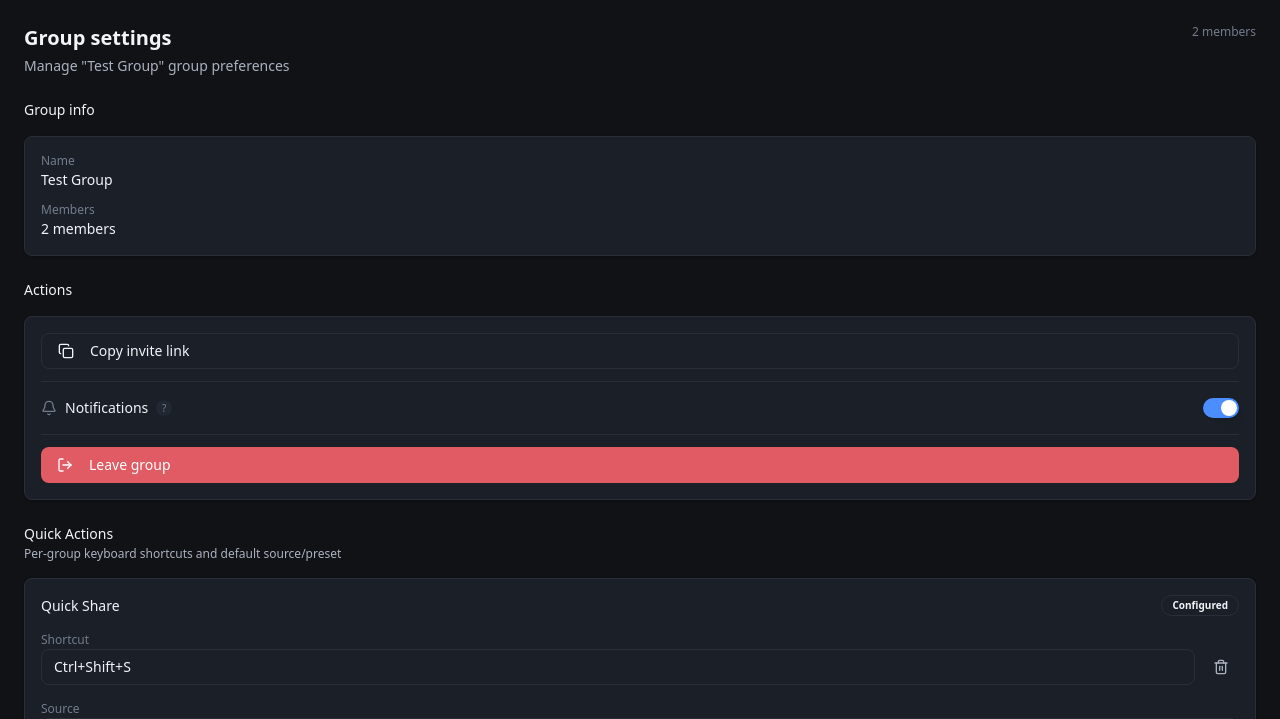
Test: GroupSettingsPage interactions › clear shortcut button is guarded while request pending
The image size is (1280, 719).
Expected: the heading "Group info" is shown, [24,100,95,120]
Expected: the text "Configured" is shown, [1162,595,1239,616]
Click the button titled "Clear shortcut" at (1221, 667), box [1203,649,1239,685]
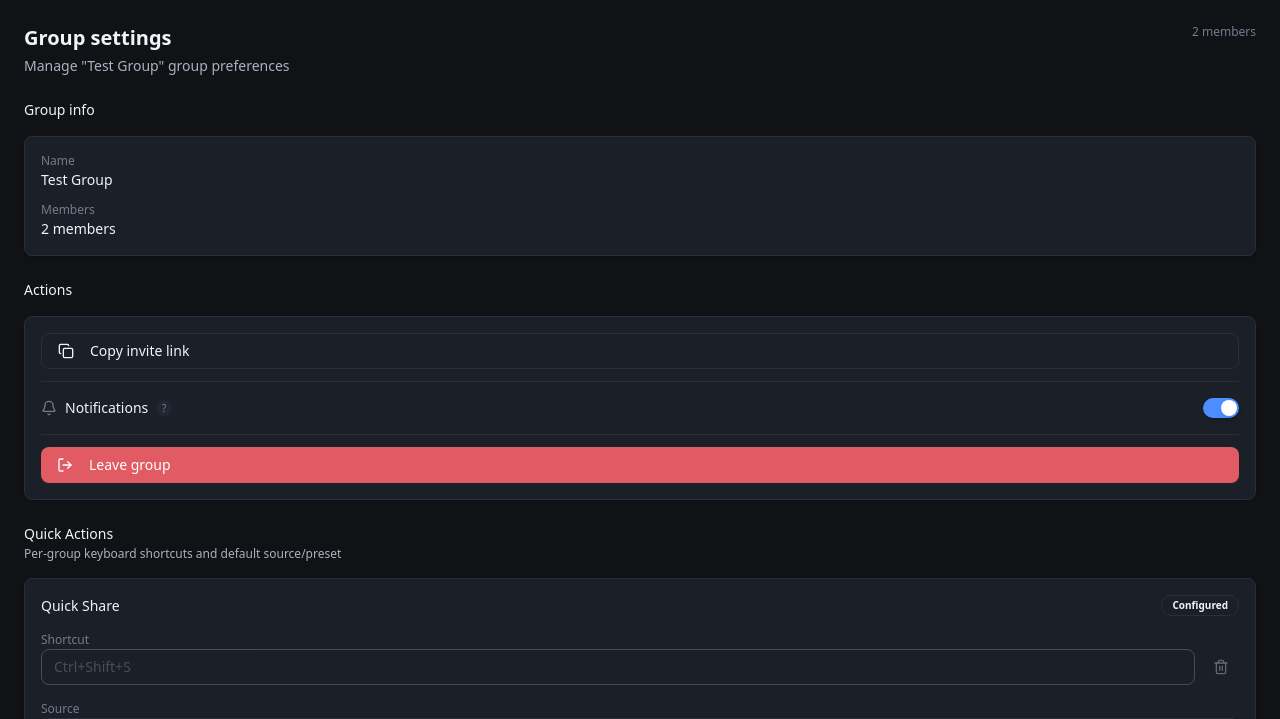
Now the button titled "Clear shortcut" is disabled, box [1203,649,1239,685]
